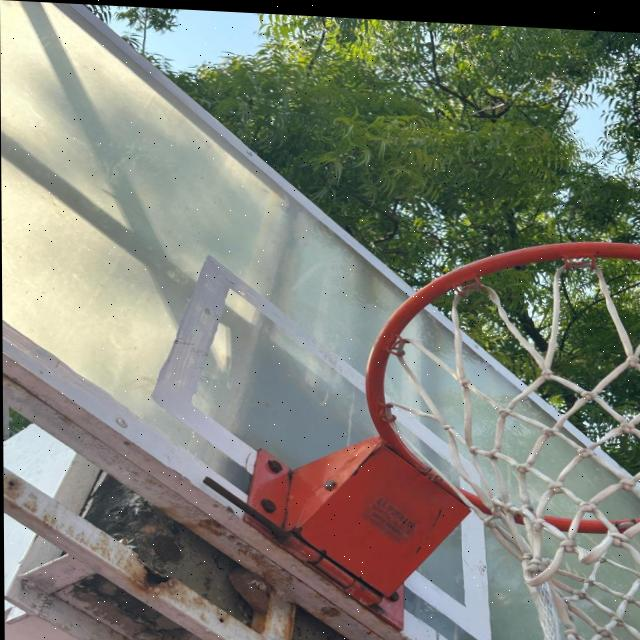hoop: (281, 231, 640, 640)
